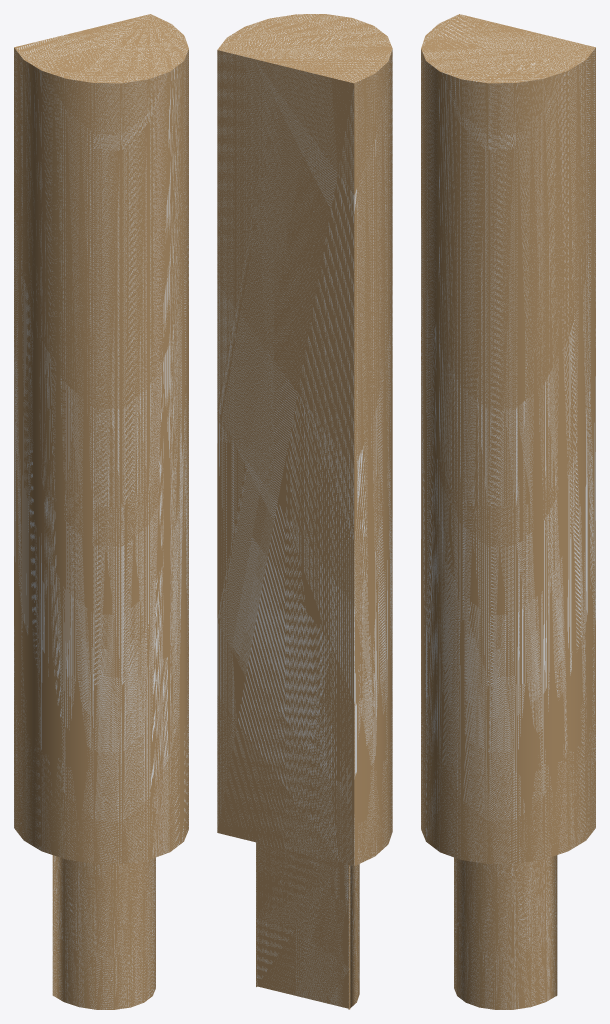
The model's file is original-5.obj.
3 views of the same model, side by side, from view 1: azimuth 30°, elevation 25°; view 2: azimuth 150°, elevation 25°; view 3: azimuth 330°, elevation 25° (orthographic).
Visible parts, largest first — view 1: mesh3/mesh3-geometry#mesh3-geometry; view 2: mesh3/mesh3-geometry#mesh3-geometry; view 3: mesh3/mesh3-geometry#mesh3-geometry.
Boxes of the visible parts, bbox=[...] form: mesh3/mesh3-geometry#mesh3-geometry: bbox=[14, 14, 188, 1009]; mesh3/mesh3-geometry#mesh3-geometry: bbox=[217, 14, 392, 1009]; mesh3/mesh3-geometry#mesh3-geometry: bbox=[421, 14, 595, 1009].
Size of the model in its own units: 0.0512 by 0.3119 by 0.0399.
